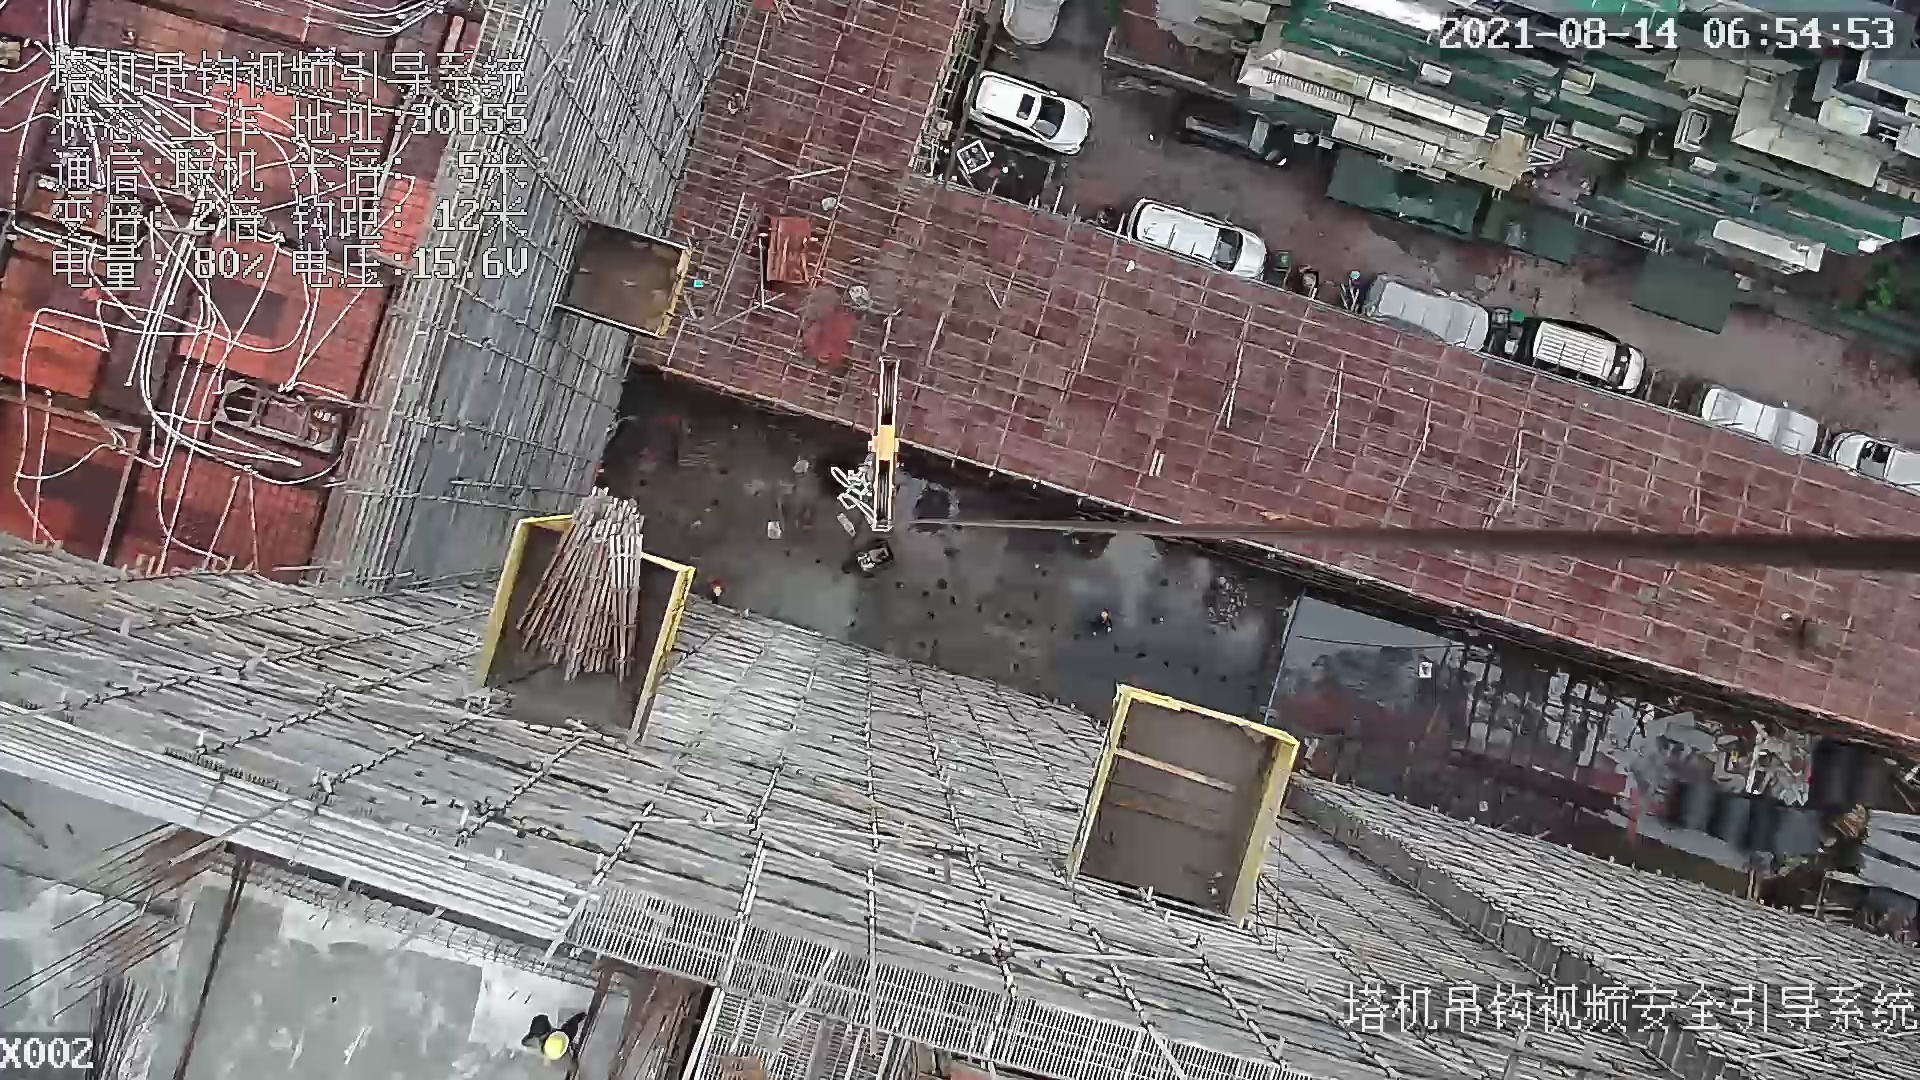helmet: (544, 1031, 569, 1060)
hook: (856, 346, 915, 551)
person: (510, 999, 597, 1068)
rebar: (1, 707, 574, 943)
scaffold: (516, 487, 643, 686)
